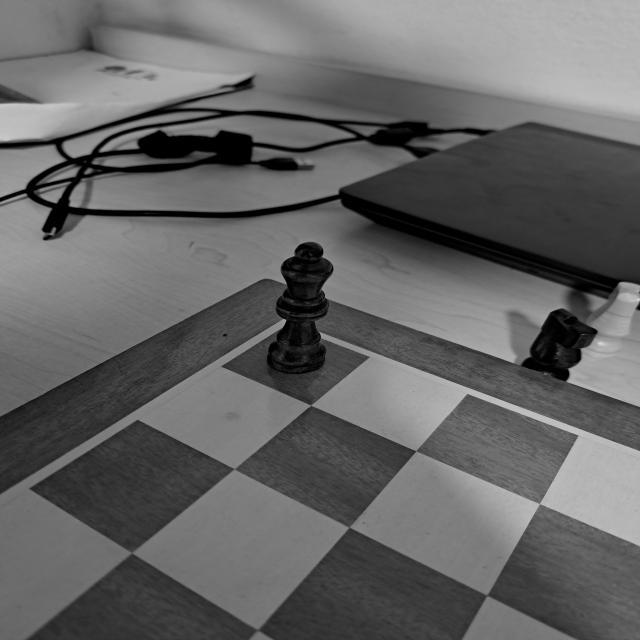chess-table-corners: (242, 296, 344, 360)
